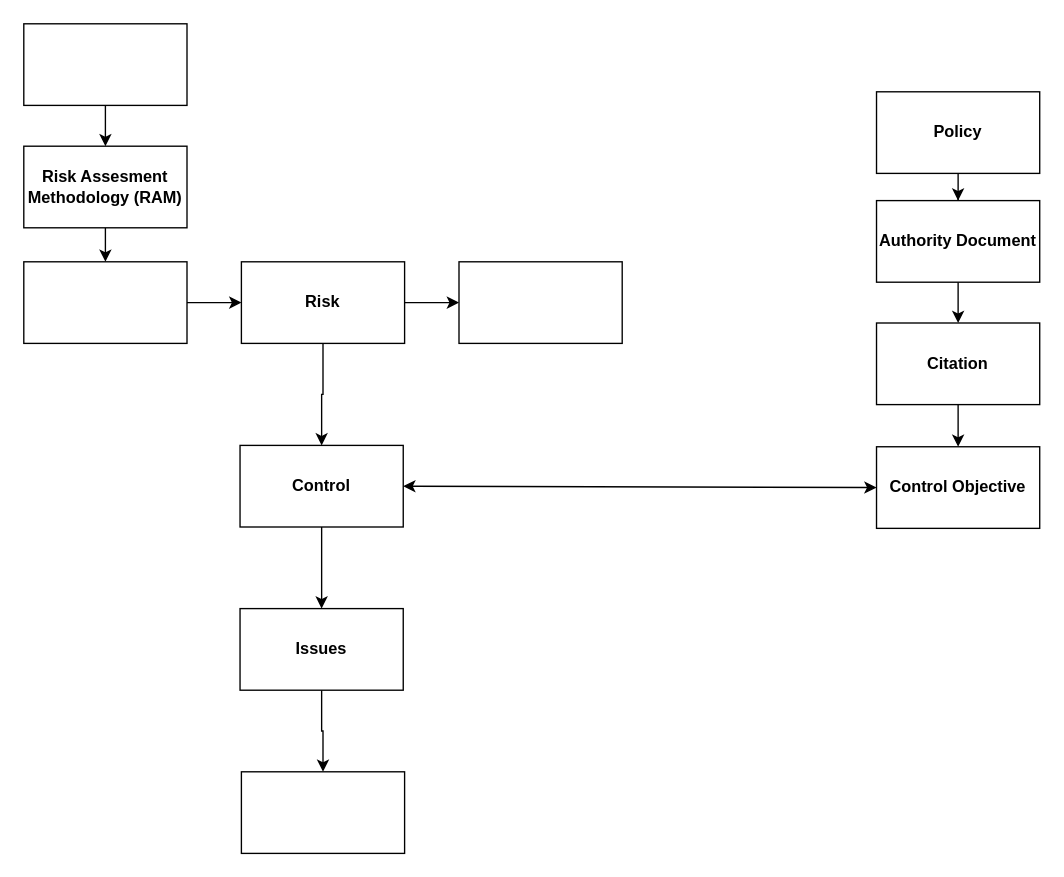
Image size: 1064x877. Some labels were removed from this diagram. The shapes that lost their labels are listed below. From the top down, each one's box as (x1, y1, x2, y2) in pixels, then its label:
(22, 22, 187, 105): Entity Class
(22, 260, 187, 343): Entity/Process
(458, 260, 622, 343): Risk Statement
(240, 770, 405, 853): Action Plans/Tasks
